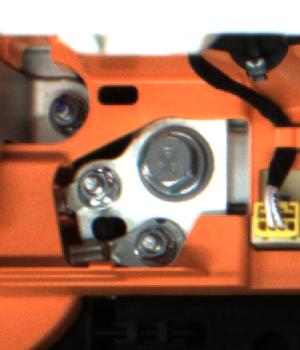nut_b: (133, 120, 215, 203)
